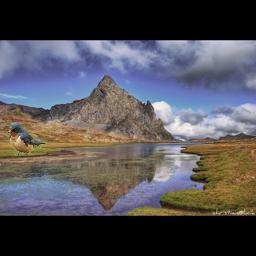Swallow: (8, 122, 48, 155)
